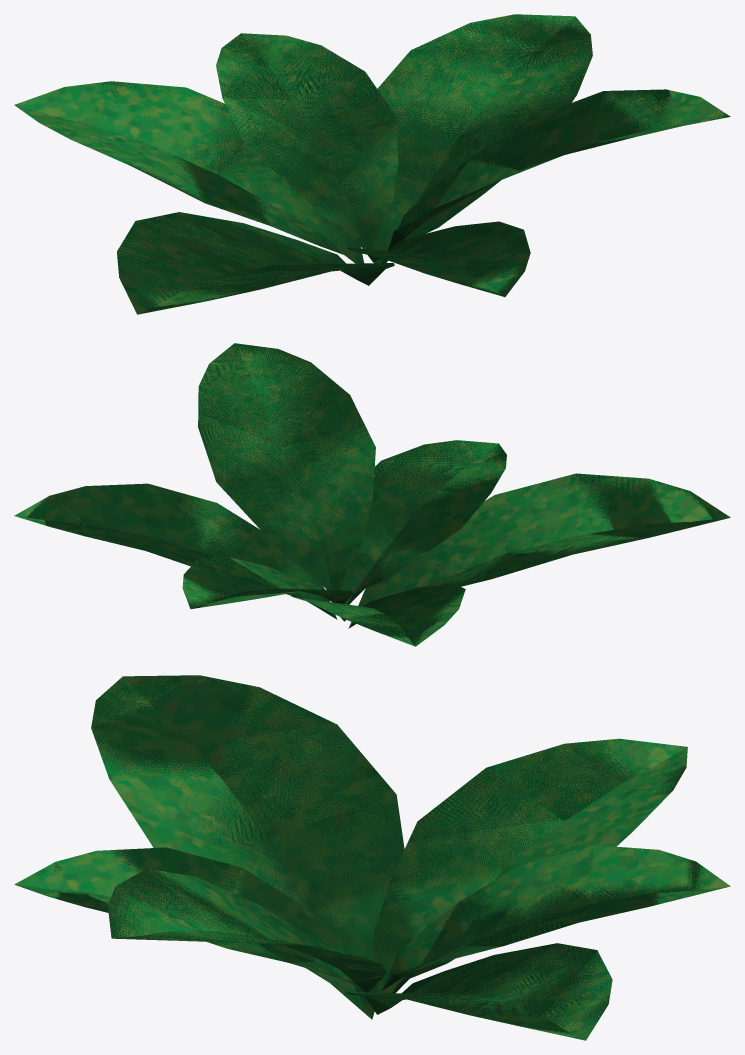
The model's file is Sm_Flowers5.fbx.
3 views of the same model, one above another, from view 1: azimuth 30°, elevation 25°; view 2: azimuth 150°, elevation 25°; view 3: azimuth 270°, elevation 25° (orthographic). The views are drawn at different scales.
Parts seen in each view (by area): view 1: Sm_Flowers5; view 2: Sm_Flowers5; view 3: Sm_Flowers5.
Boxes of the visible parts, x1,y1,x2,y2 form: Sm_Flowers5: [14, 14, 730, 314]; Sm_Flowers5: [14, 343, 730, 646]; Sm_Flowers5: [14, 675, 730, 1040].
Size of the model in its own units: 74.96 by 21.94 by 63.53.
